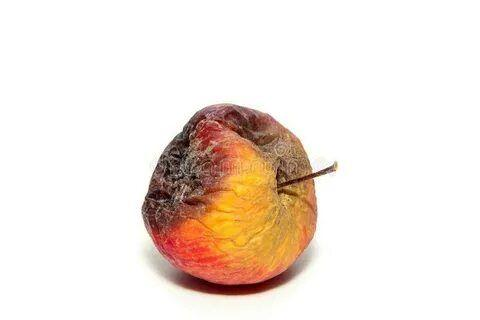Apple: (144, 105, 318, 286)
